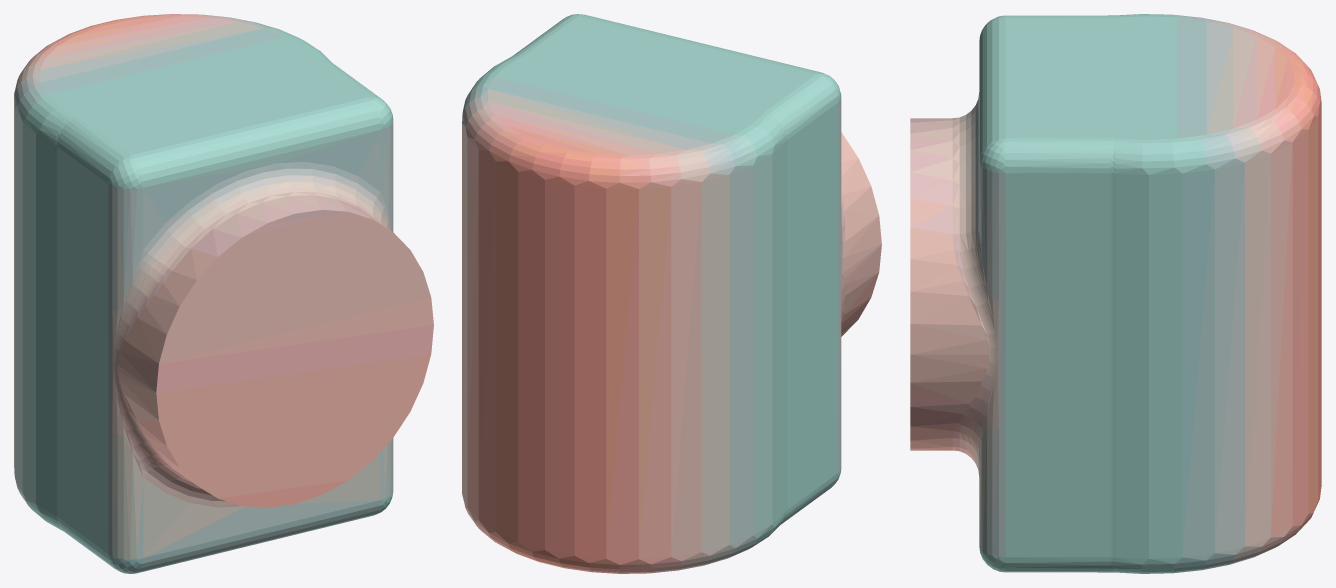
File: UnitreeZ1Link4.dae
The picture shows the model from 3 angles, left to right: view 1: azimuth 30°, elevation 25°; view 2: azimuth 150°, elevation 25°; view 3: azimuth 270°, elevation 25°; orthographic projection. The views are drawn at different scales.
Visible parts, largest first — view 1: UnitreeZ1Link4; view 2: UnitreeZ1Link4; view 3: UnitreeZ1Link4.
Part boxes in pixels (x1,y1,x2,y2): UnitreeZ1Link4: (14, 14, 433, 573); UnitreeZ1Link4: (462, 14, 881, 573); UnitreeZ1Link4: (910, 14, 1321, 573).
Bounding box in the file's own units: 0.0652 × 0.0777 × 0.09.
